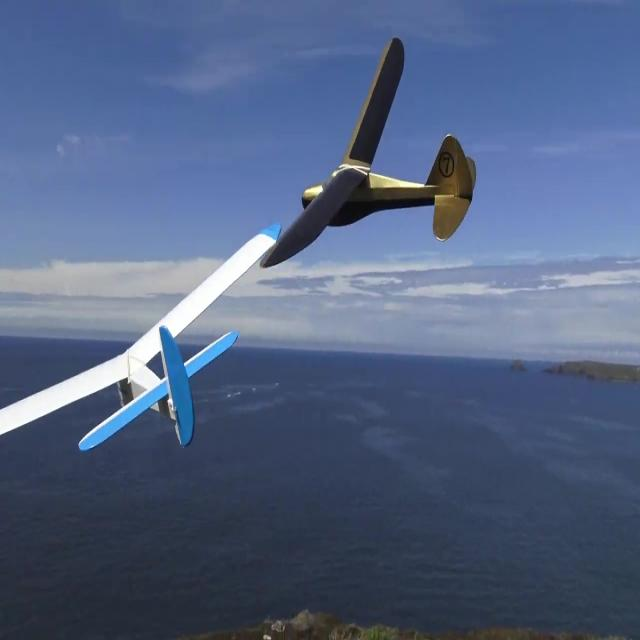iha: (0, 219, 282, 456), (260, 35, 480, 271)
